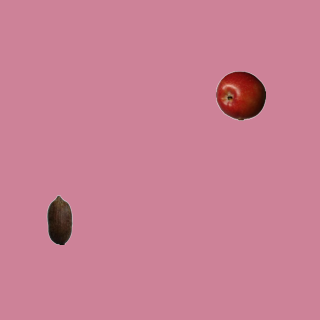Apple Braeburn: (215, 70, 265, 120)
Nut Pecan: (34, 194, 84, 244)
